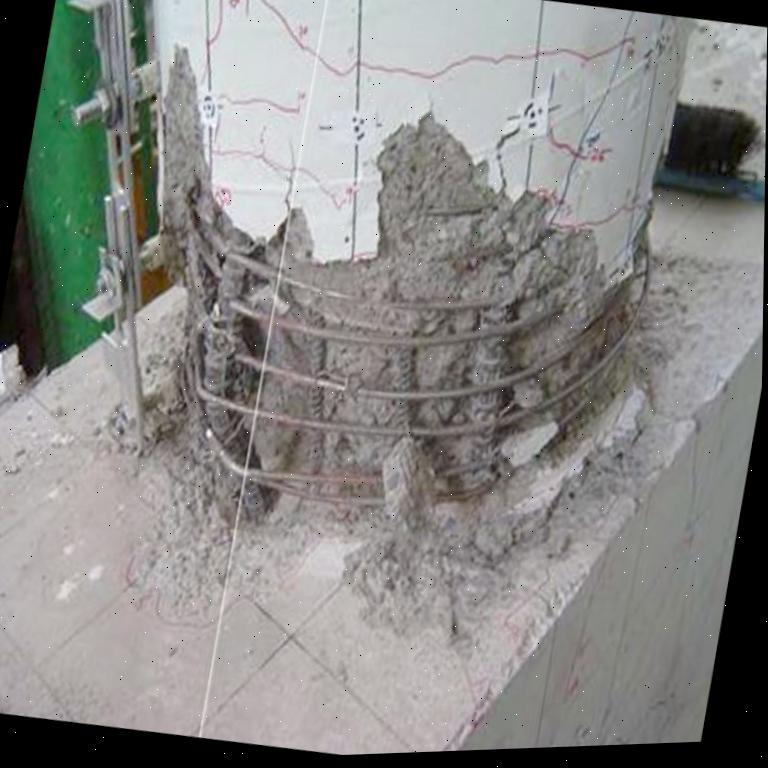spalling: (165, 49, 644, 501)
